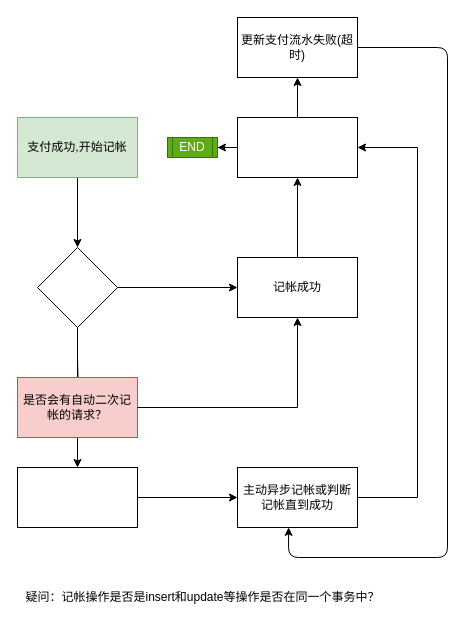
The diagram is 473 pixels wide and 625 high, and some of its shapes have lost their labels. Here are the shapes that lost their labels. From the top down, the box of each, then its label:
(236, 116, 358, 178): 更新支付流水中的记帐状态为成功
(36, 246, 118, 328): 进行单次记帐
(16, 466, 138, 528): 记帐失败(超时)
